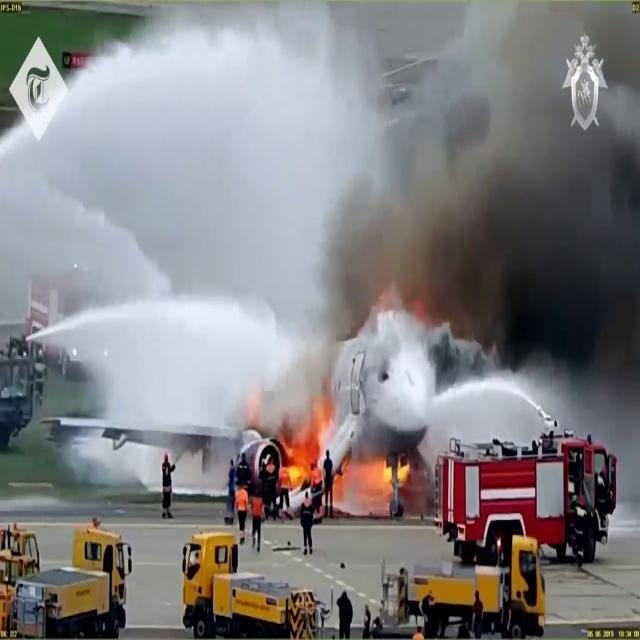Fire: (15, 11, 363, 425), (286, 412, 322, 480), (358, 449, 412, 492)
Smoke: (293, 1, 640, 435)
